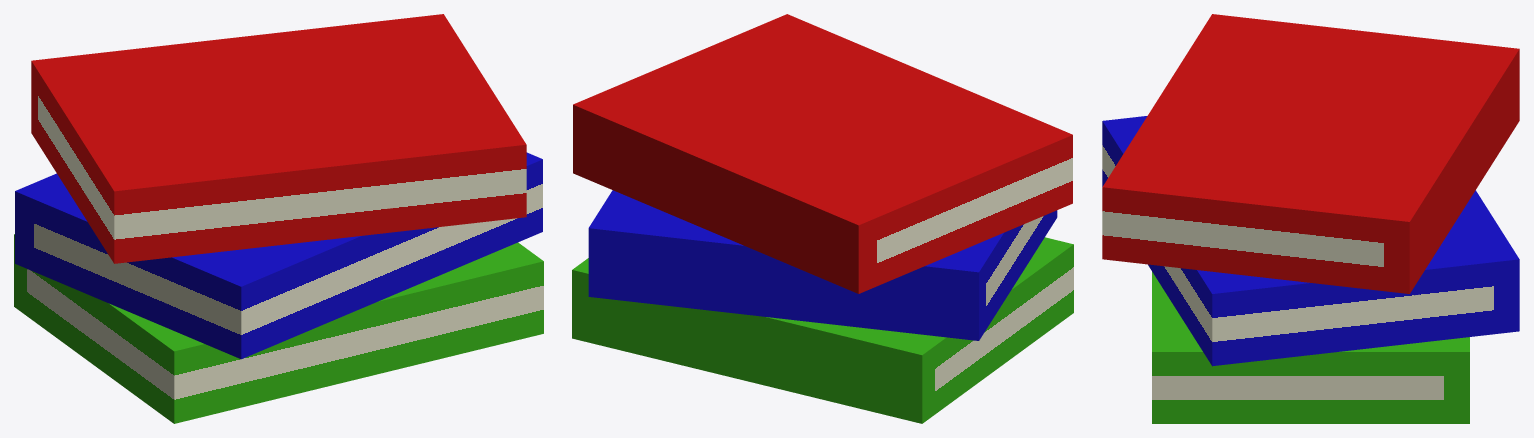
Rendered from book-stack.gltf.
The picture shows the model from 3 angles, left to right: view 1: azimuth 30°, elevation 25°; view 2: azimuth 150°, elevation 25°; view 3: azimuth 270°, elevation 25°; orthographic projection. The views are drawn at different scales.
Visible parts, largest first — view 1: topbook, bottombook, middlebook; view 2: topbook, bottombook, middlebook; view 3: topbook, middlebook, bottombook.
Part boxes in pixels (<box>): topbook: <box>31,14,526,263</box>; bottombook: <box>14,234,543,423</box>; middlebook: <box>15,152,542,359</box>; topbook: <box>573,14,1072,293</box>; bottombook: <box>572,237,1073,423</box>; middlebook: <box>588,190,1057,340</box>; topbook: <box>1102,14,1519,293</box>; middlebook: <box>1102,116,1519,366</box>; bottombook: <box>1152,272,1469,423</box>.
Size of the model in its own units: 1.16 by 0.5625 by 0.9833.
Materials: 1 (1 with a texture image).
